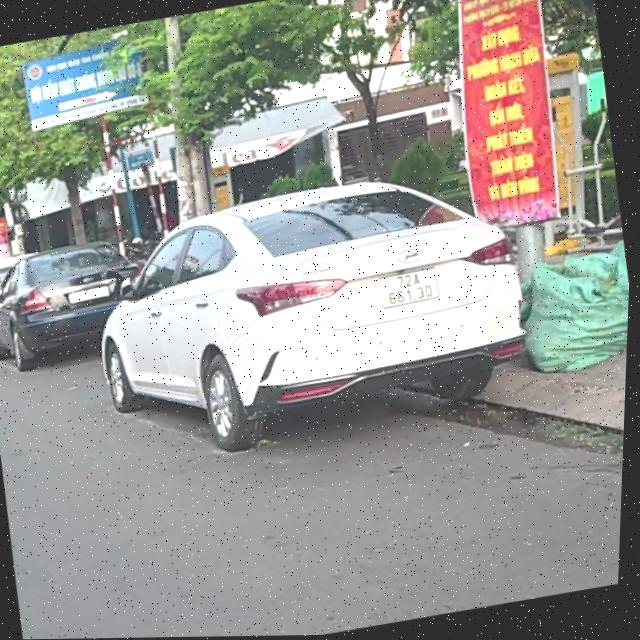car: (79, 148, 553, 487), (0, 235, 151, 377)
plate: (363, 254, 446, 317), (57, 271, 120, 312)
